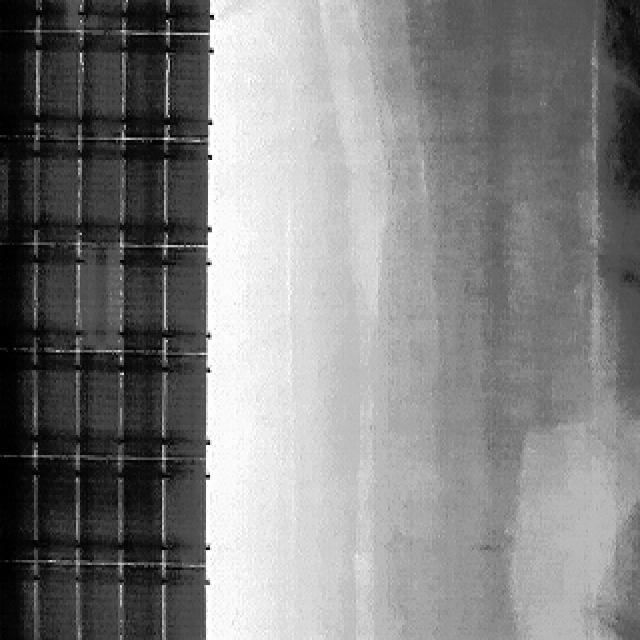PV-modules: (165, 33, 211, 141), (31, 248, 76, 358), (164, 143, 209, 252), (30, 142, 76, 248), (162, 250, 207, 358), (166, 460, 210, 570), (124, 33, 170, 138), (120, 247, 164, 355), (122, 350, 166, 458), (124, 141, 168, 248), (121, 458, 165, 564), (75, 458, 119, 564), (75, 354, 119, 460), (76, 245, 120, 350), (77, 33, 121, 138), (77, 142, 121, 246), (167, 354, 210, 460), (31, 458, 74, 564), (38, 32, 81, 138), (38, 355, 80, 459), (0, 31, 37, 137), (0, 134, 35, 244), (0, 352, 35, 459), (0, 456, 35, 562), (0, 244, 35, 350), (36, 565, 82, 640), (73, 567, 120, 640), (165, 569, 210, 640), (121, 568, 165, 640), (0, 564, 36, 640), (164, 0, 212, 30), (80, 0, 122, 32), (124, 0, 168, 30), (36, 0, 78, 30), (0, 0, 38, 28)
